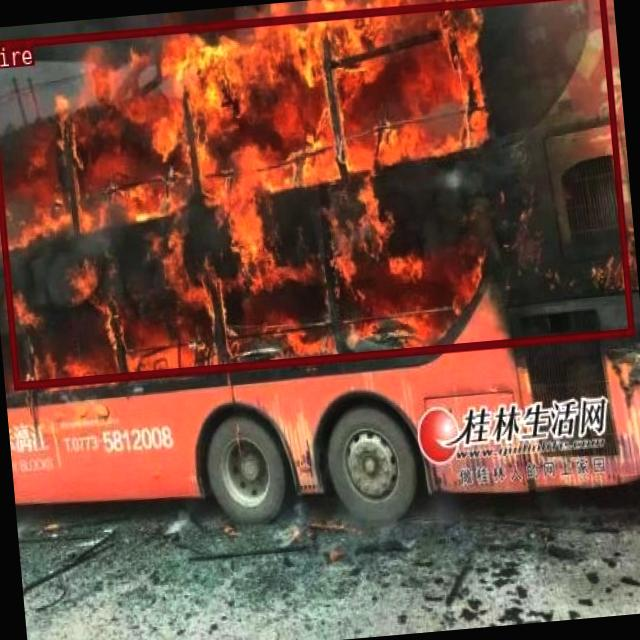fire: (0, 0, 633, 388)
